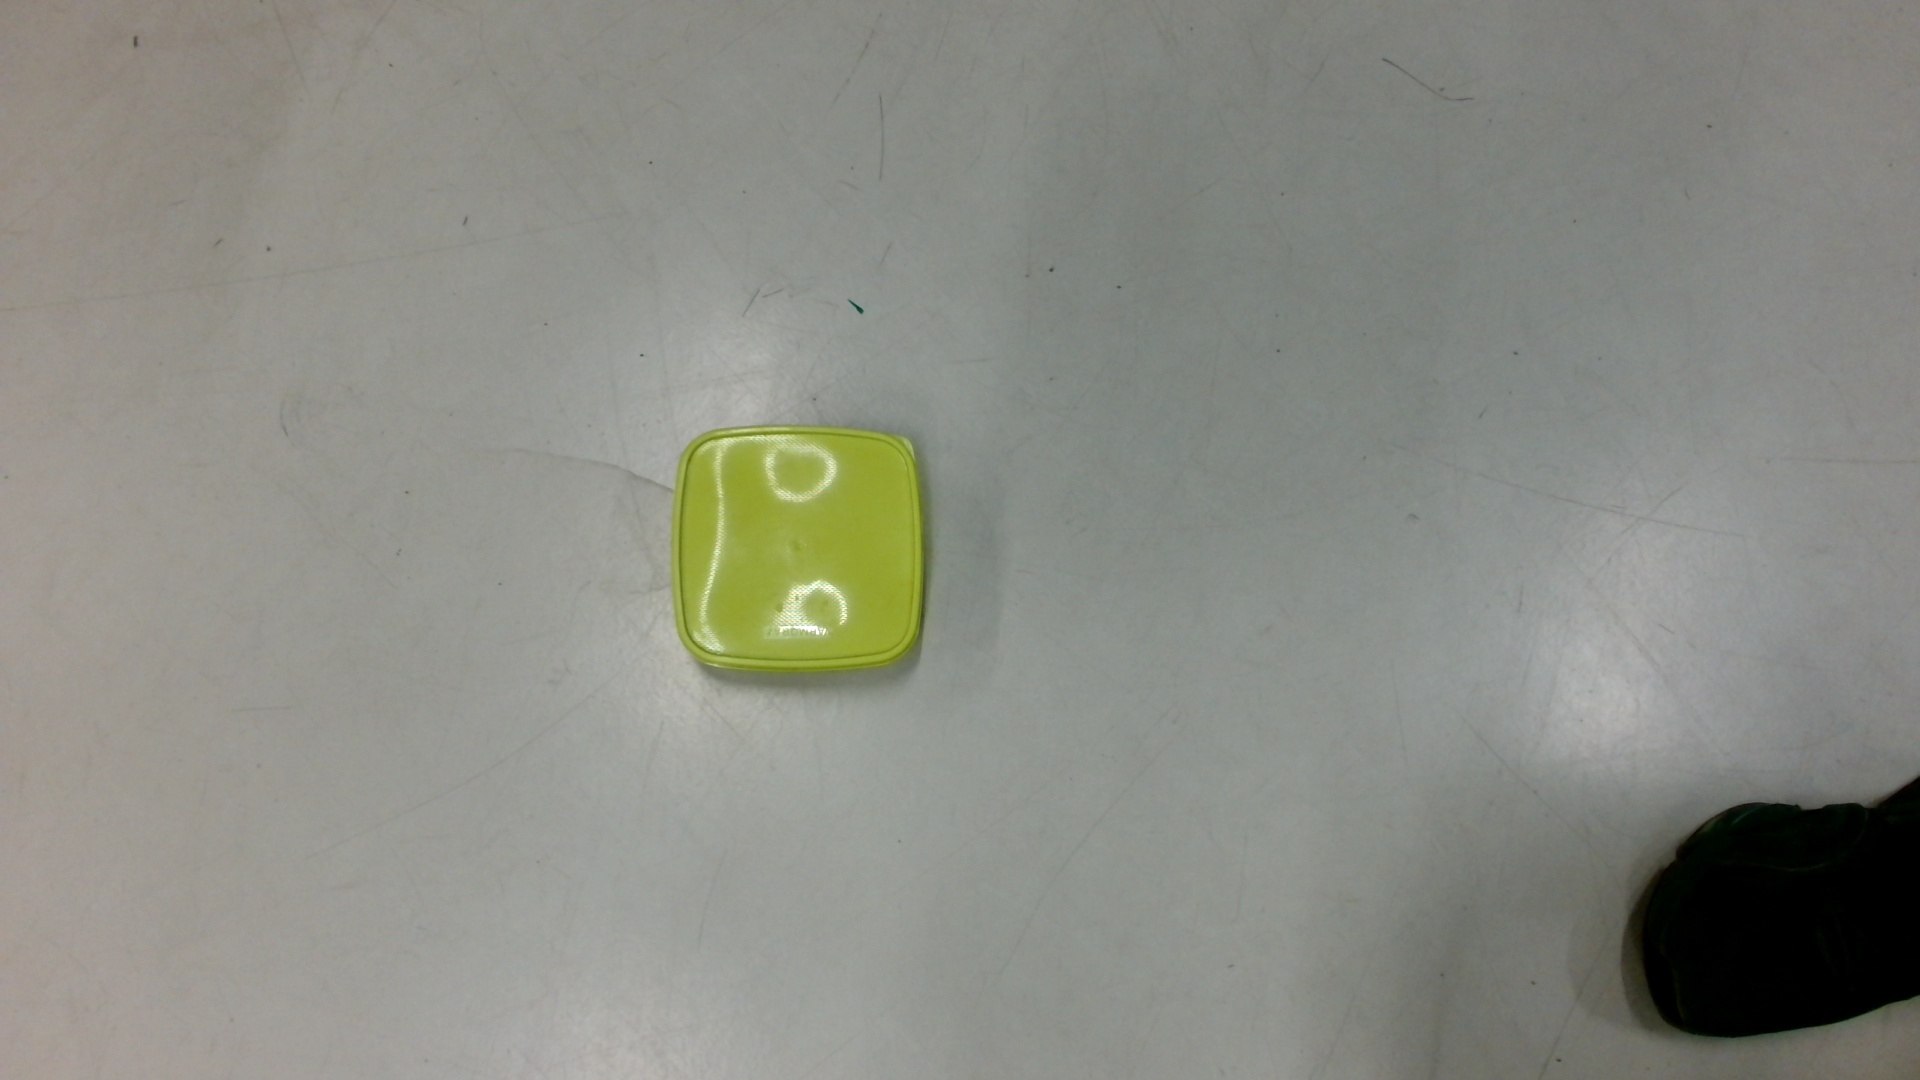Box: (669, 419, 938, 684)
